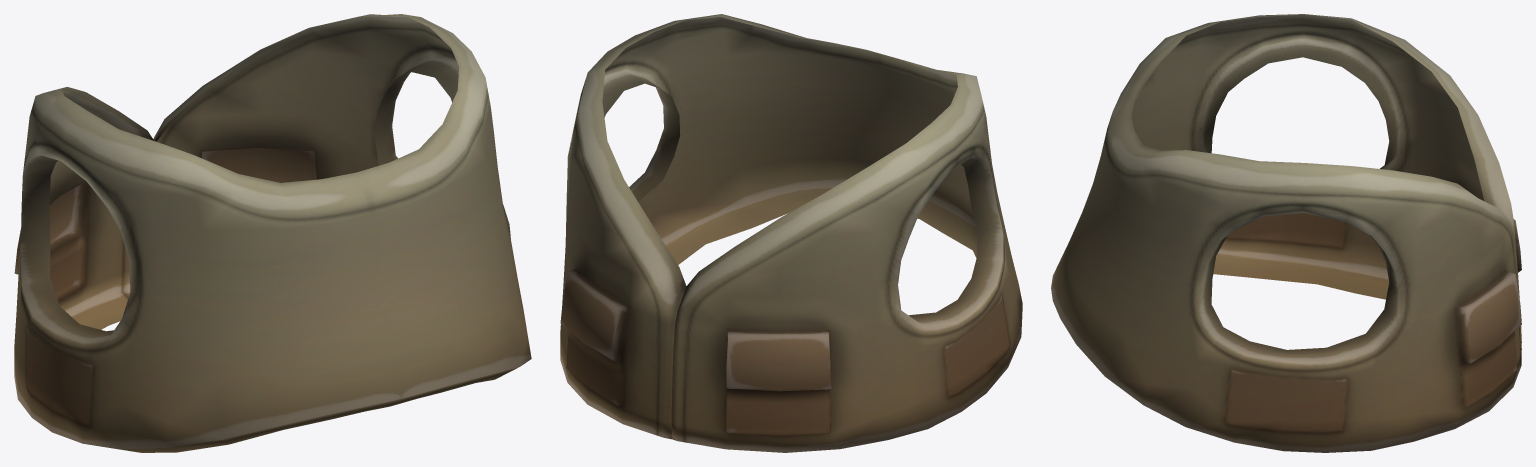
File: IG_Armor_LV1.fbx
The picture shows the model from 3 angles, left to right: view 1: azimuth 30°, elevation 25°; view 2: azimuth 150°, elevation 25°; view 3: azimuth 270°, elevation 25°; orthographic projection. The views are drawn at different scales.
Visible parts, largest first — view 1: Clothes_LV1; view 2: Clothes_LV1; view 3: Clothes_LV1.
Boxes of the visible parts, x1,y1,x2,y2 form: Clothes_LV1: [14, 14, 531, 452]; Clothes_LV1: [560, 14, 1022, 452]; Clothes_LV1: [1051, 14, 1521, 452].
Size of the model in its own units: 0.6022 by 0.4182 by 0.6292.
